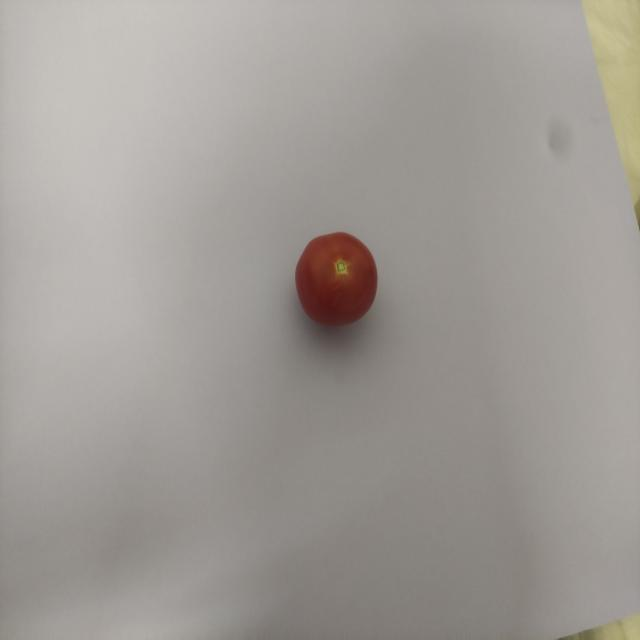kirmizi: (285, 223, 399, 334)
